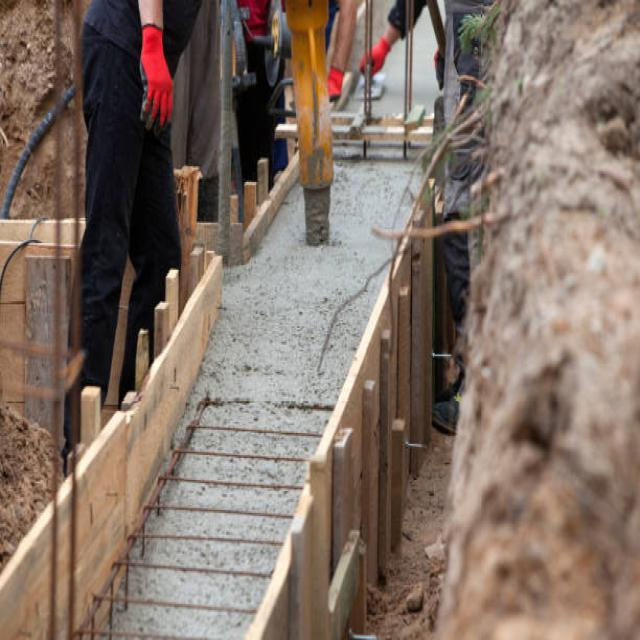Gloves: (134, 21, 176, 134), (358, 32, 393, 77), (320, 59, 350, 107)
person: (357, 0, 489, 441), (76, 0, 203, 405), (230, 0, 288, 209)
